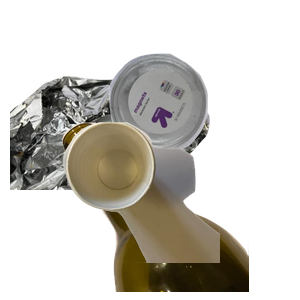glass: (60, 120, 300, 300)
metal: (10, 73, 212, 253)
plastic: (107, 51, 300, 199)
trash: (60, 120, 300, 300)
